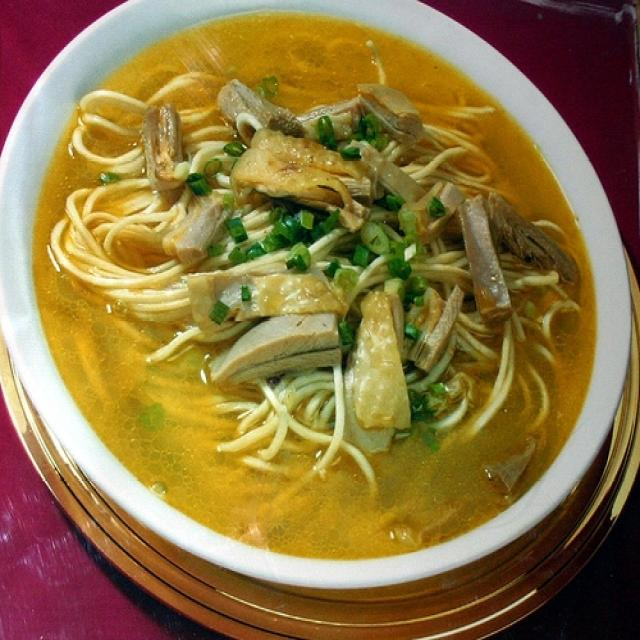面条主食: (15, 1, 631, 608)
